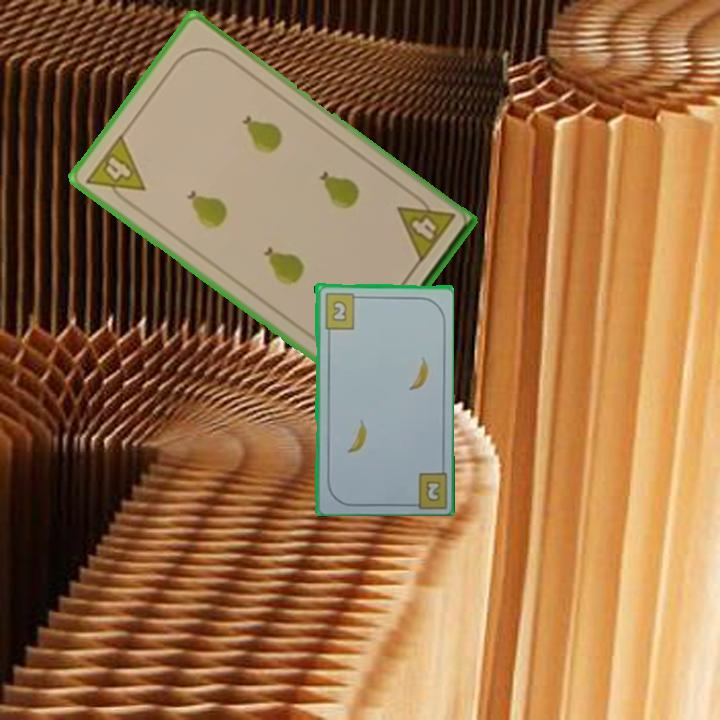2b: (321, 289, 363, 331), (422, 477, 443, 505)
4p: (81, 130, 148, 210), (393, 188, 458, 266)
